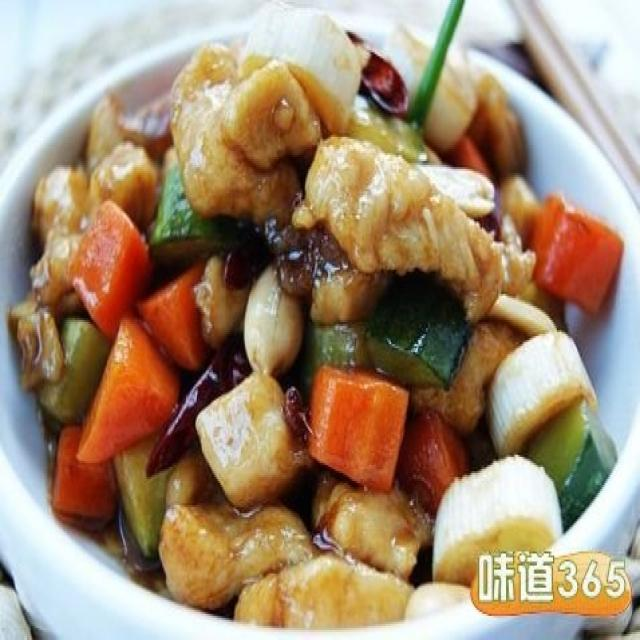鸡肉料理 含炸鸡: (17, 14, 612, 604)
